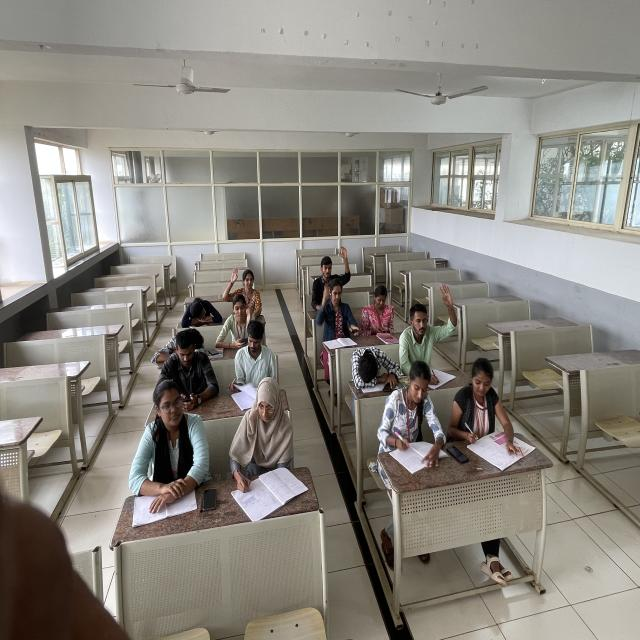Hand Rising: (402, 282, 462, 369), (309, 248, 354, 308), (223, 267, 264, 312)
Sleeping: (348, 344, 398, 388), (175, 296, 222, 328)
Using Phone: (159, 326, 222, 406), (214, 294, 253, 351), (362, 287, 396, 333)
Writing: (230, 380, 304, 500), (379, 365, 443, 471), (447, 359, 518, 454)
